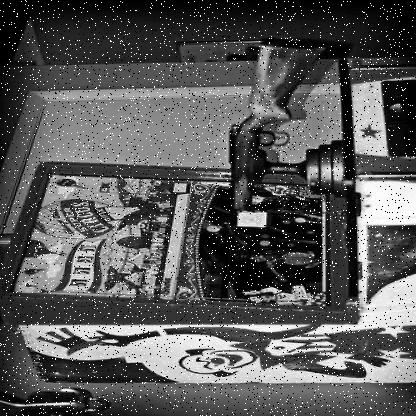rifle: (219, 28, 337, 230)
